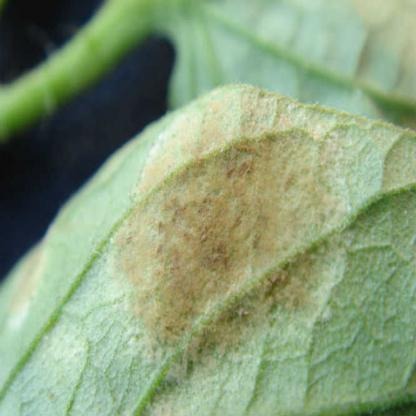tomato mold leaf: (1, 54, 415, 415)
